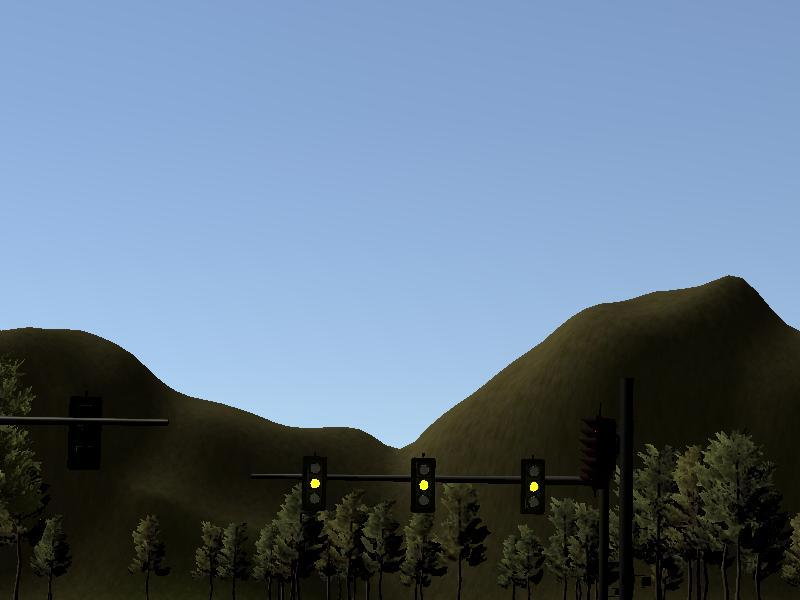Yellow: (411, 457, 436, 514), (521, 458, 545, 515), (302, 456, 326, 512)
